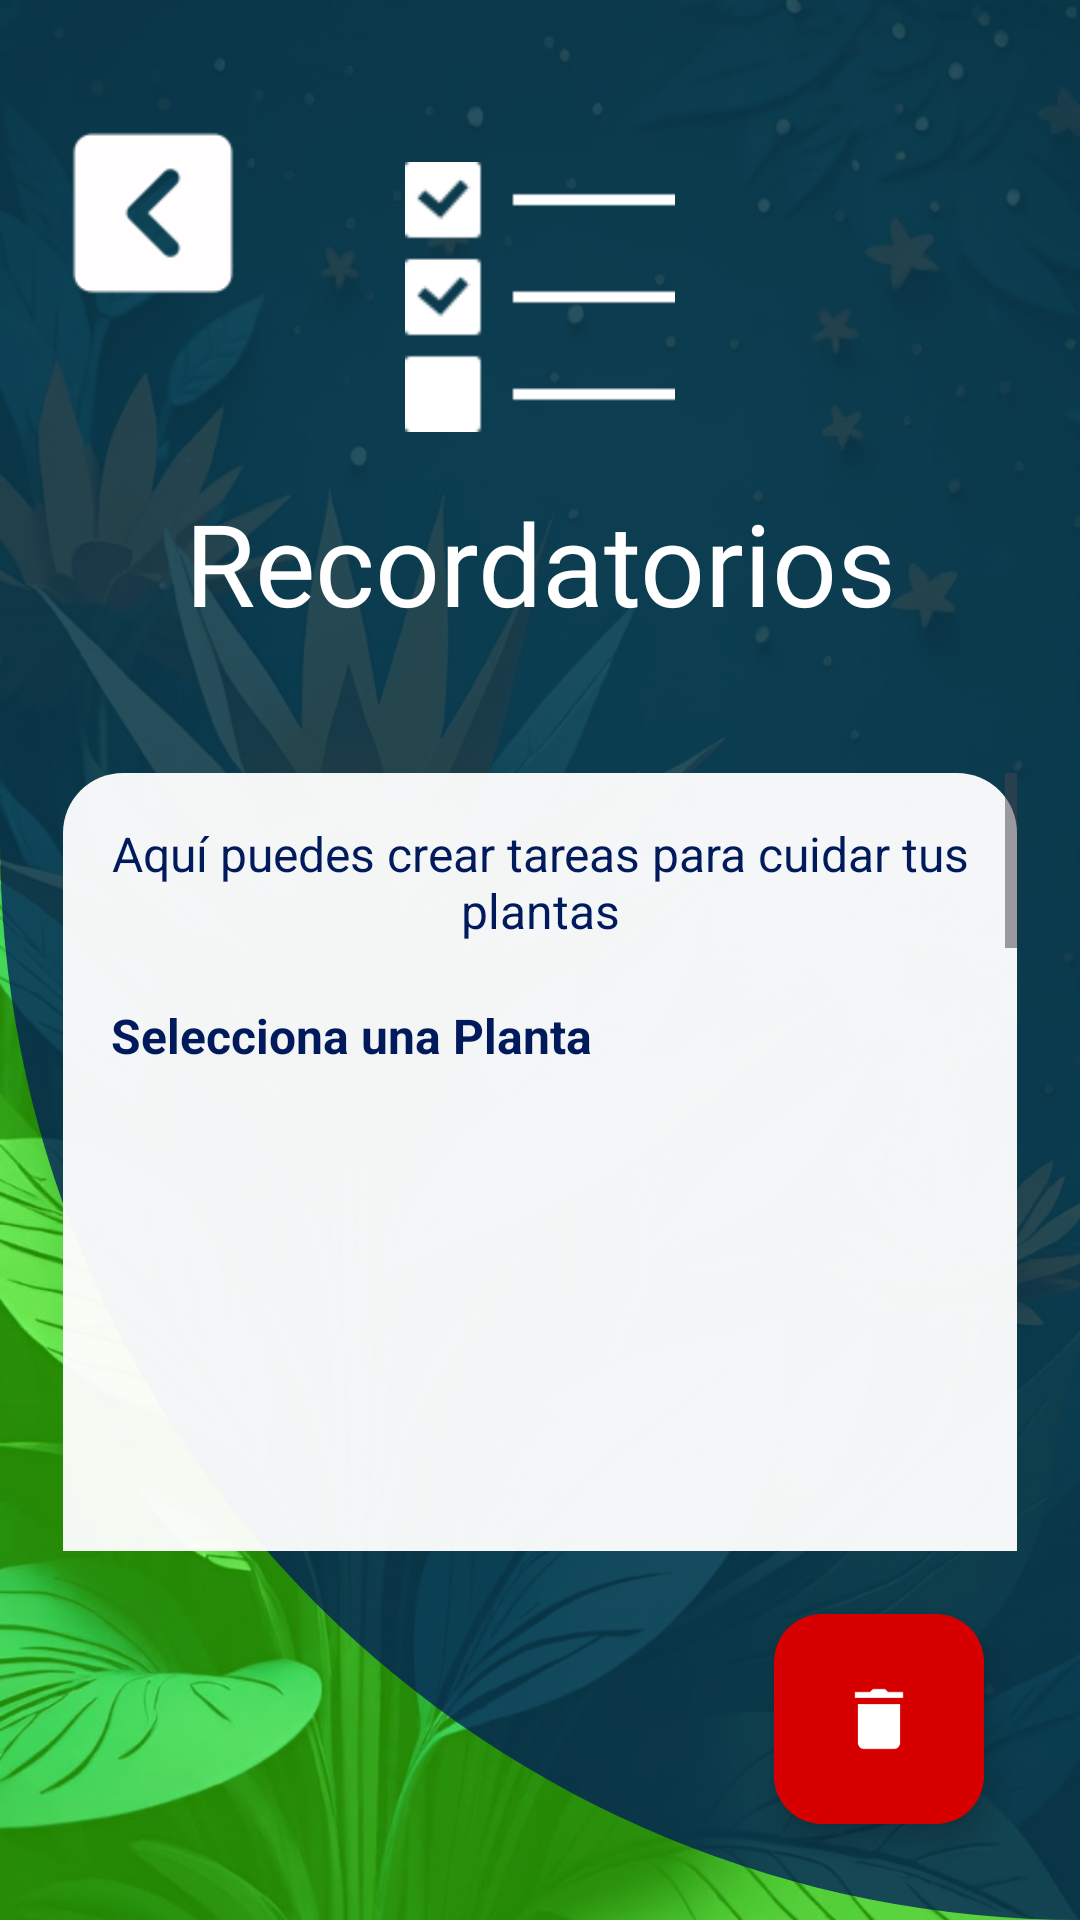

Where to tap for icons on this 1080*1920 app screen, as point (x, y):
Eliminar: point (879, 1719)
lista check: point (540, 297)
